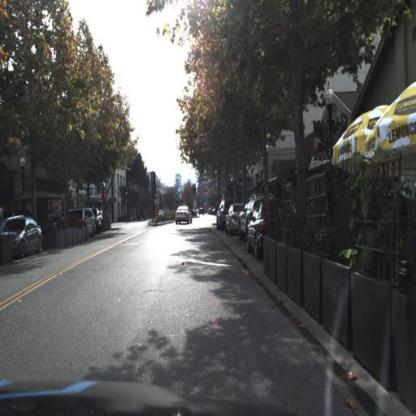car: (247, 201, 298, 259), (1, 213, 44, 260), (67, 208, 97, 242), (227, 206, 247, 240), (179, 209, 198, 233)
trafficLight-Red: (193, 183, 198, 197)
